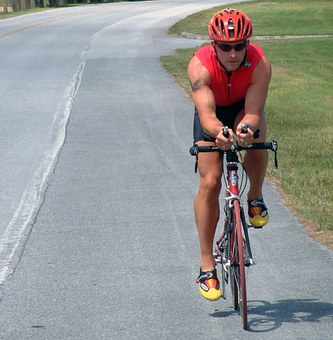bikerider: (166, 3, 303, 338)
